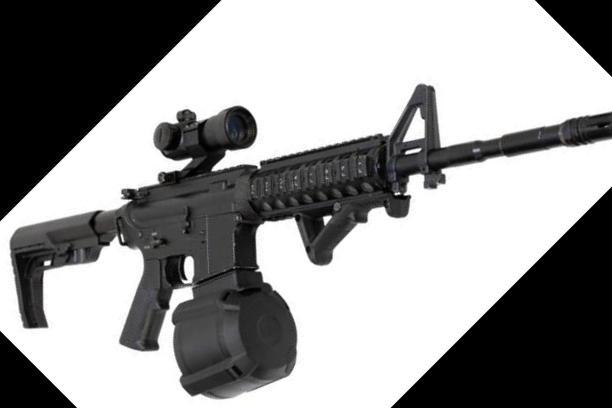larga: (9, 83, 612, 400)
